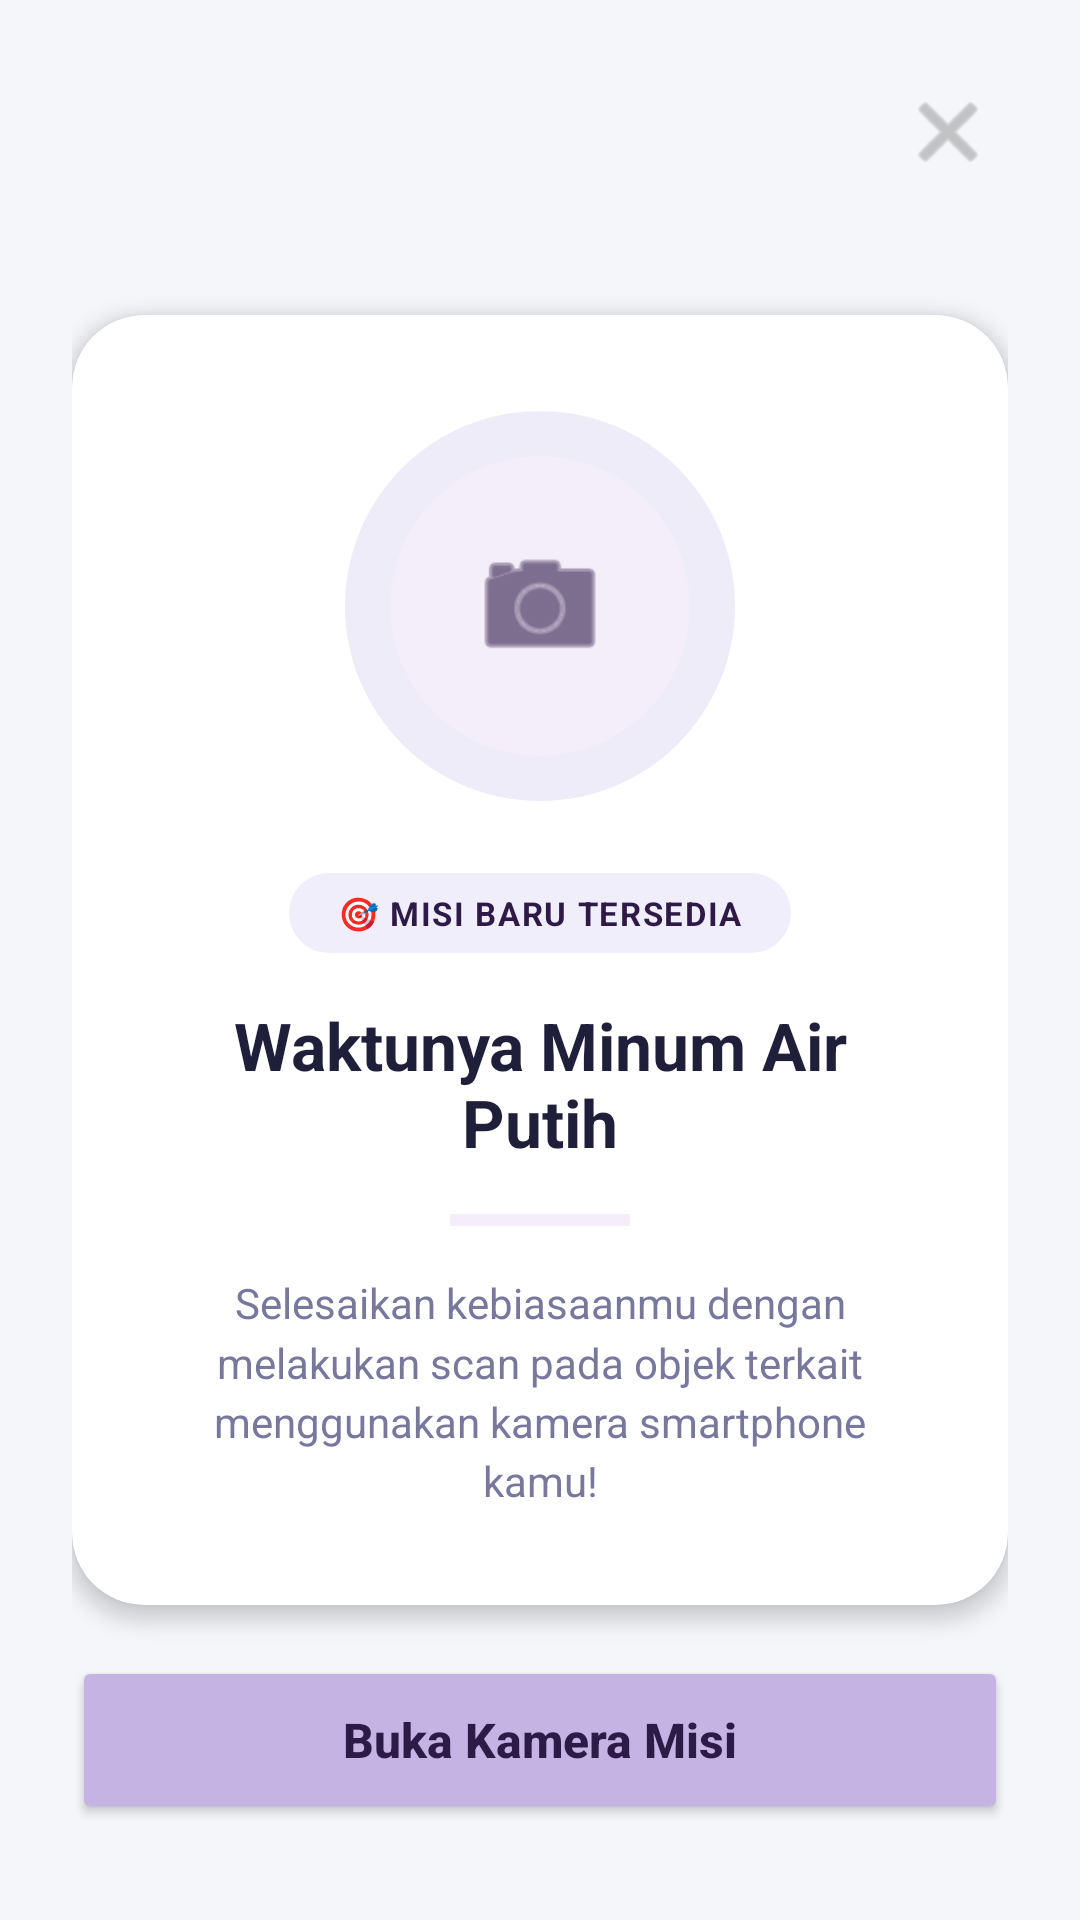

Icon bounding boxes for this 1080px×1920px phone screenshot, format (x1, y1, x2, y2):
camera: (484, 559, 596, 648)
Tutup Misi: (919, 103, 977, 161)
